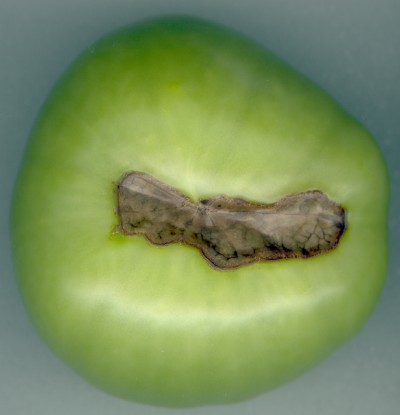blossom_rotw: (85, 134, 368, 289)
